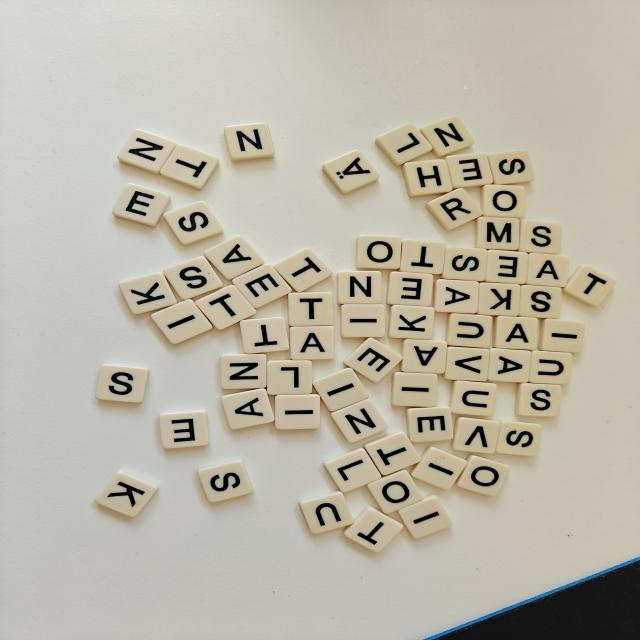a: (204, 236, 264, 280), (221, 389, 274, 429), (400, 339, 448, 374), (492, 316, 539, 350), (433, 279, 479, 313), (290, 326, 335, 360), (487, 348, 531, 382), (526, 253, 569, 287)
a_dot: (322, 150, 379, 193)
e: (232, 264, 291, 308), (343, 338, 402, 382), (112, 184, 170, 227), (160, 411, 209, 449), (406, 406, 453, 442), (446, 152, 493, 188), (386, 271, 433, 306), (485, 250, 529, 284)
h: (402, 160, 452, 197)
i: (151, 300, 212, 344), (411, 446, 467, 489), (313, 368, 368, 411), (399, 495, 452, 538), (391, 372, 438, 407), (275, 394, 320, 430), (539, 319, 584, 353), (340, 304, 386, 337)
k: (95, 472, 158, 517), (119, 272, 176, 315), (388, 305, 434, 339), (477, 282, 521, 316)
l: (325, 448, 381, 492), (376, 123, 432, 166), (266, 360, 312, 395)
m: (475, 216, 520, 250)
n: (117, 130, 176, 174), (331, 399, 388, 442), (420, 117, 474, 157), (224, 123, 274, 161), (220, 353, 267, 389), (337, 271, 382, 304)
o: (367, 470, 423, 514), (457, 455, 510, 495), (355, 235, 402, 270), (481, 184, 525, 218)
r: (426, 188, 482, 230)
s: (164, 201, 223, 244), (163, 257, 223, 299), (198, 460, 253, 502), (95, 365, 149, 403), (441, 247, 488, 282), (495, 421, 541, 456), (488, 150, 535, 184), (515, 383, 561, 417), (519, 220, 561, 254), (519, 285, 562, 318)
t: (343, 507, 403, 553), (196, 285, 256, 330), (275, 248, 332, 292), (161, 145, 218, 189), (365, 432, 420, 475), (564, 265, 616, 306), (239, 317, 289, 354), (399, 240, 446, 274), (288, 292, 333, 326)
u: (300, 492, 353, 534), (449, 380, 497, 416), (445, 313, 493, 348), (529, 350, 572, 385)
v: (451, 417, 500, 454), (444, 346, 489, 381)
